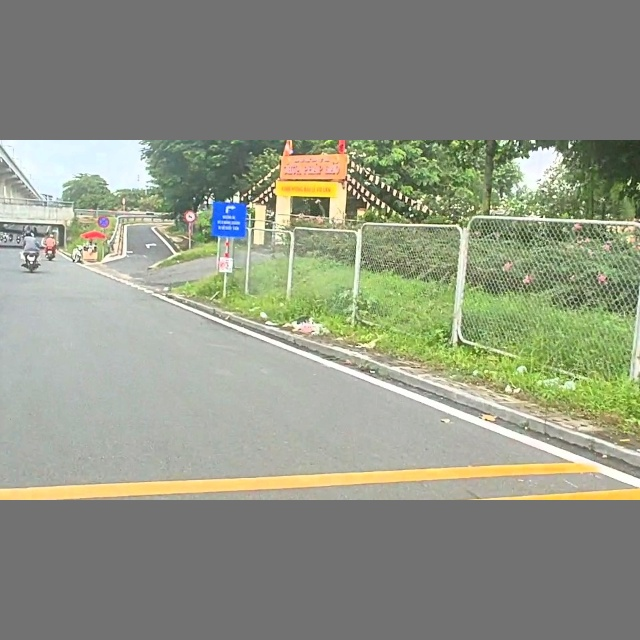P.103a: (184, 210, 197, 221)
P.130: (97, 216, 110, 229)
